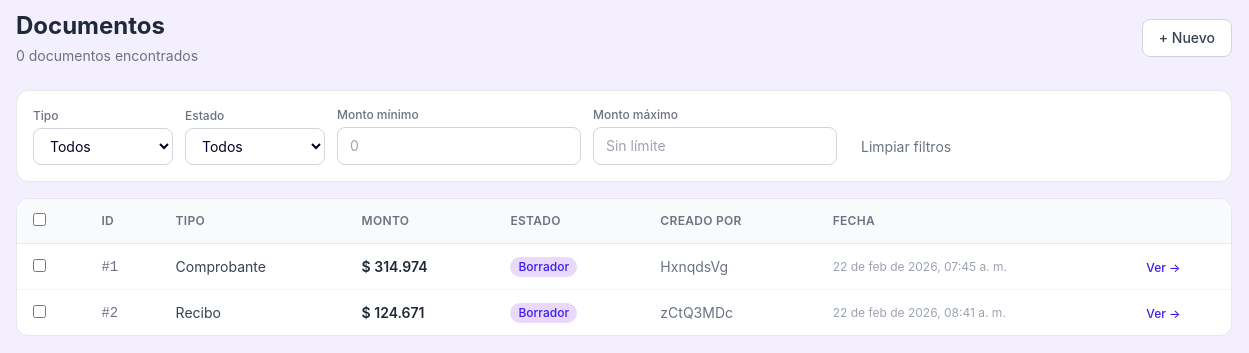
Test case: DocumentsPage › selection and batch › toggleAll deselects all when all selectable are already selected
The width and height of the screenshot is (1249, 353).
Click the checkbox named "Seleccionar borradores y rechazados". click: (40, 220)
box: 33,213 -> 46,226
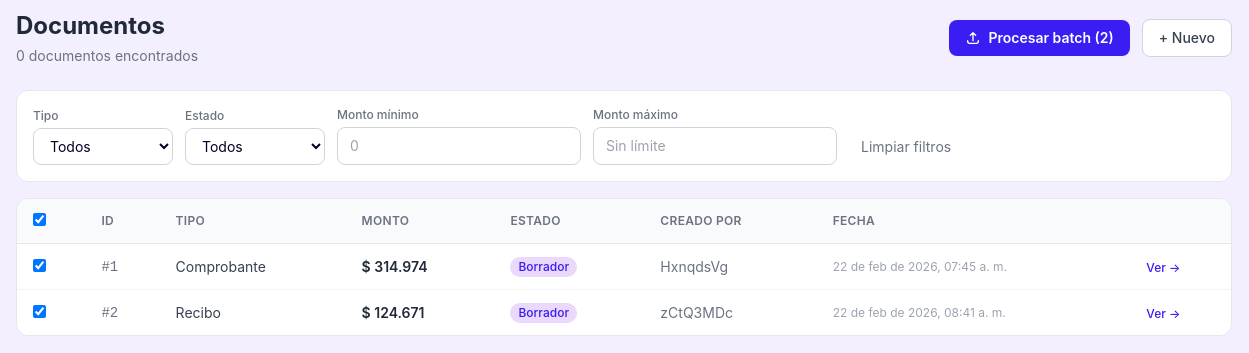
Click the checkbox named "Seleccionar borradores y rechazados". click: (40, 220)
box: 33,213 -> 46,226
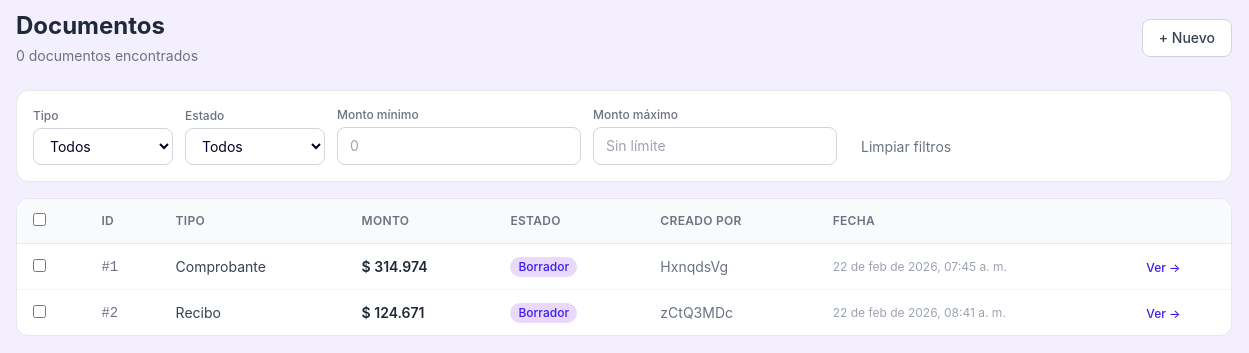
Expected: the button "Procesar batch" is gone
